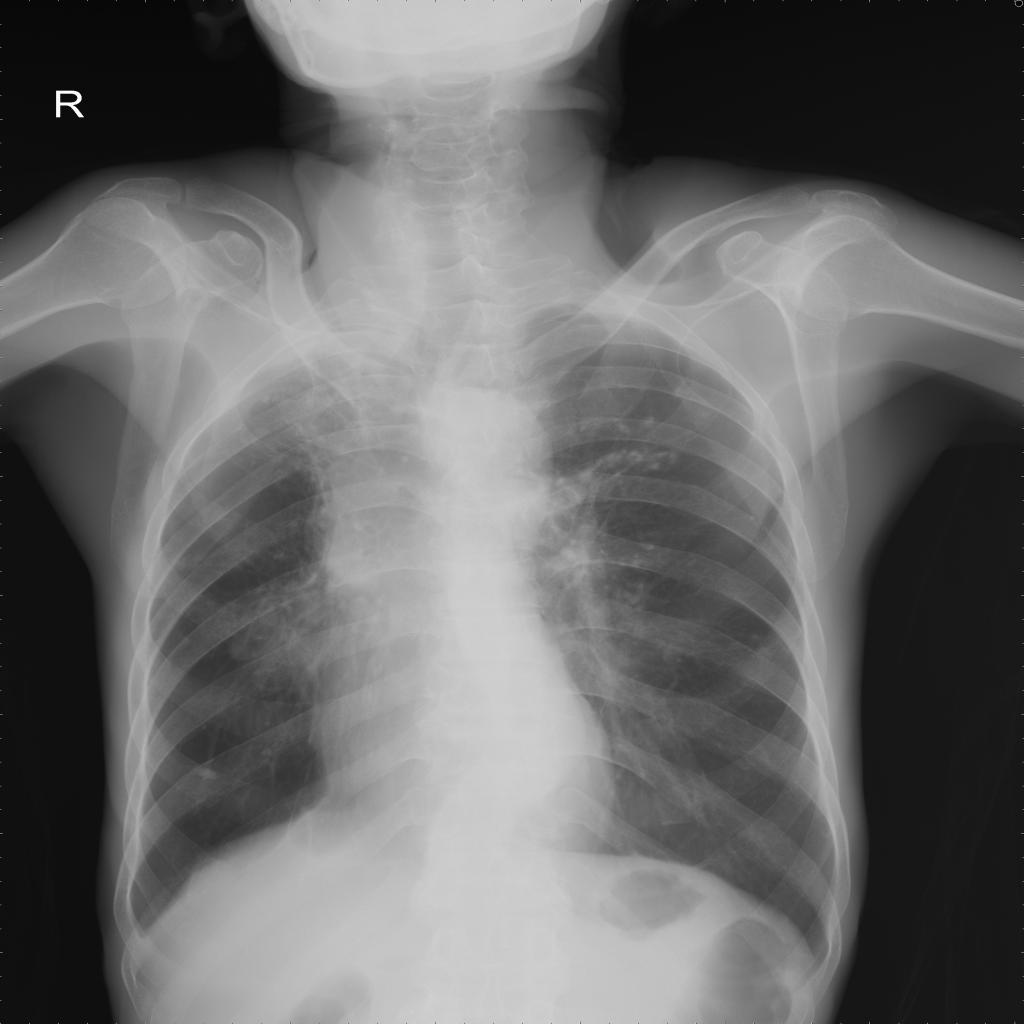Nodule: (604, 554, 650, 606), (257, 601, 279, 629), (228, 643, 254, 662), (197, 766, 218, 780), (263, 750, 272, 757)
